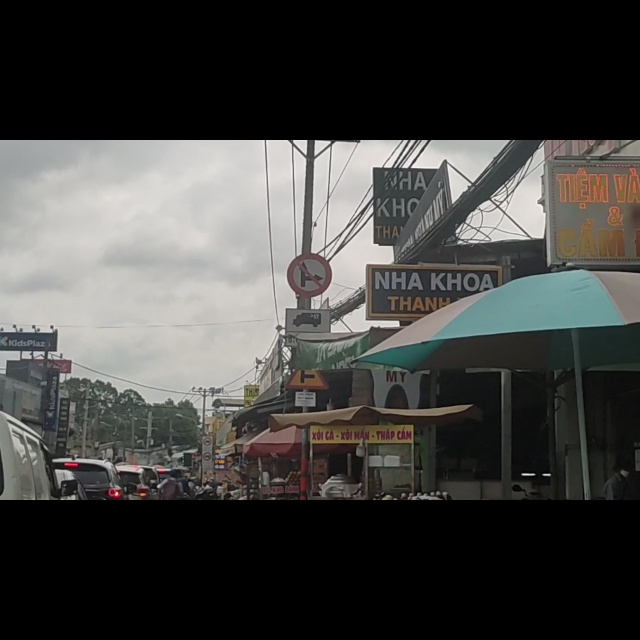bien_nguy_hiem: (287, 204, 331, 275), (287, 297, 328, 346)
